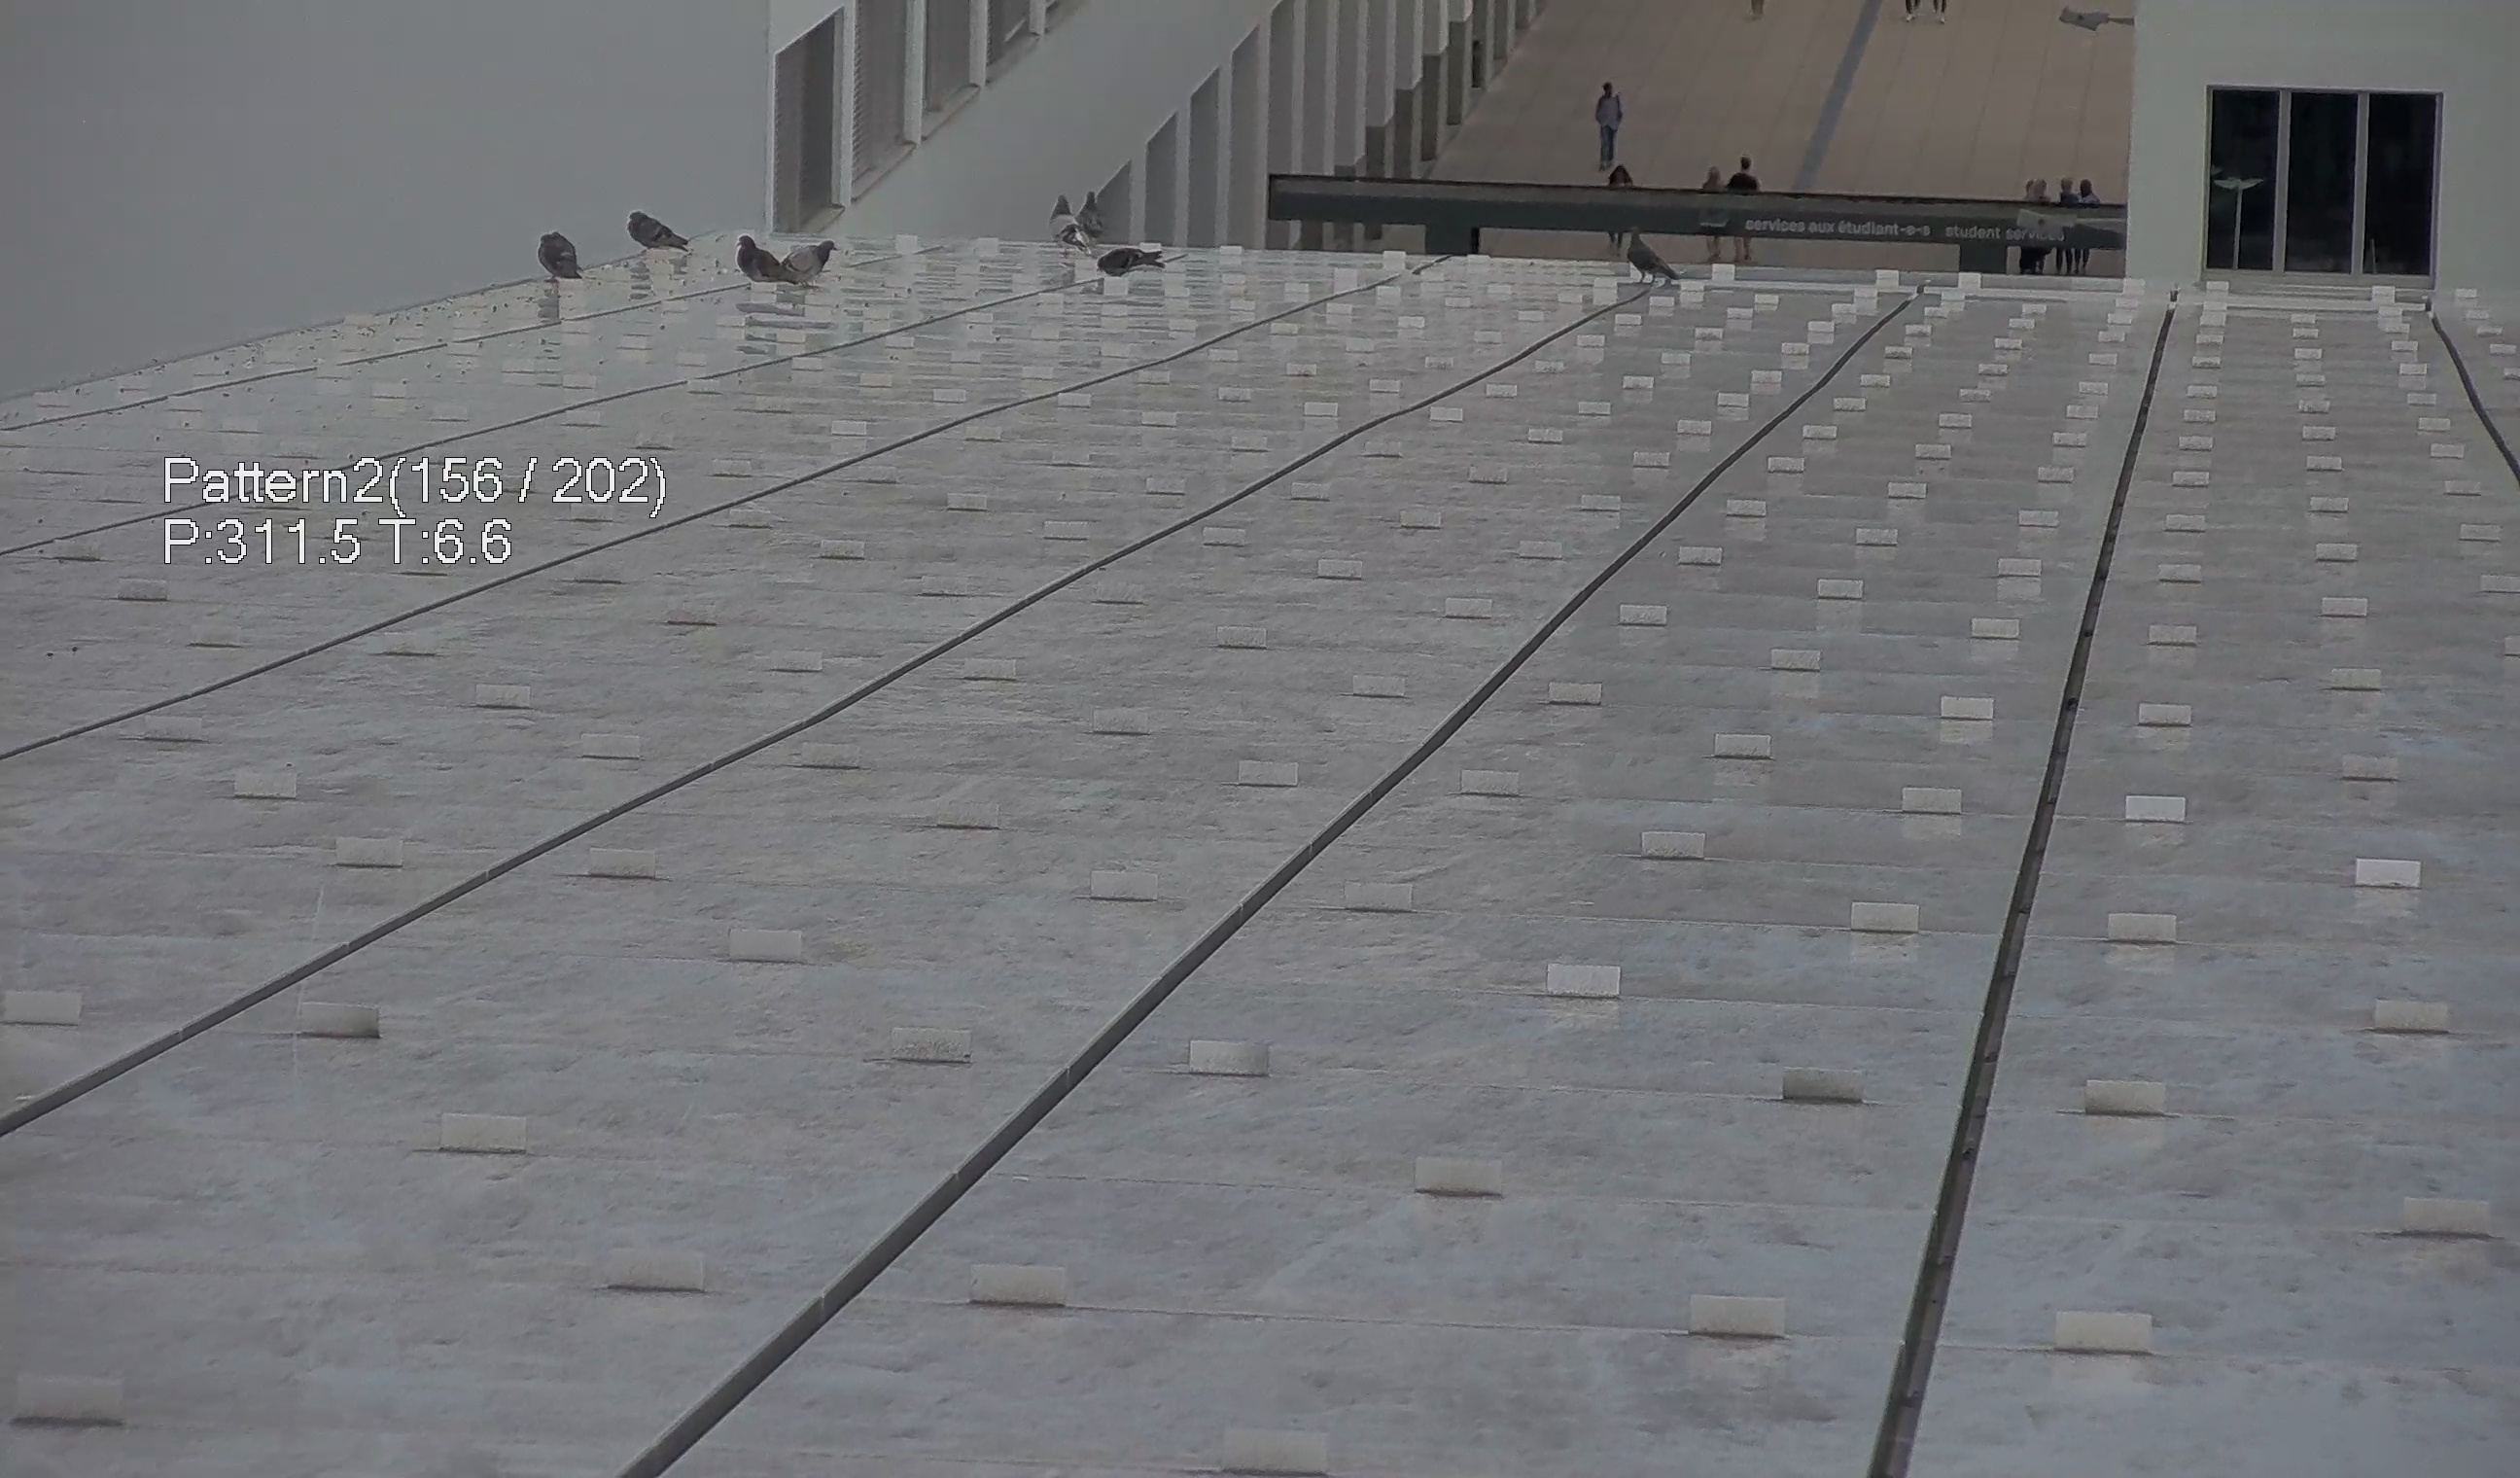Pigeon: (716, 230, 795, 287), (524, 227, 587, 282), (621, 202, 688, 253), (1625, 223, 1679, 285), (781, 232, 844, 285), (1090, 245, 1175, 280), (1071, 183, 1110, 243), (1046, 190, 1083, 252)
